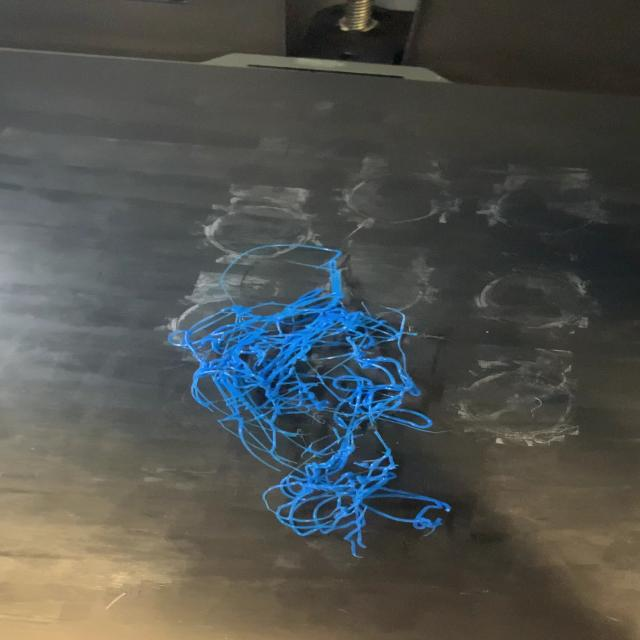spaghetti: (165, 242, 456, 560)
